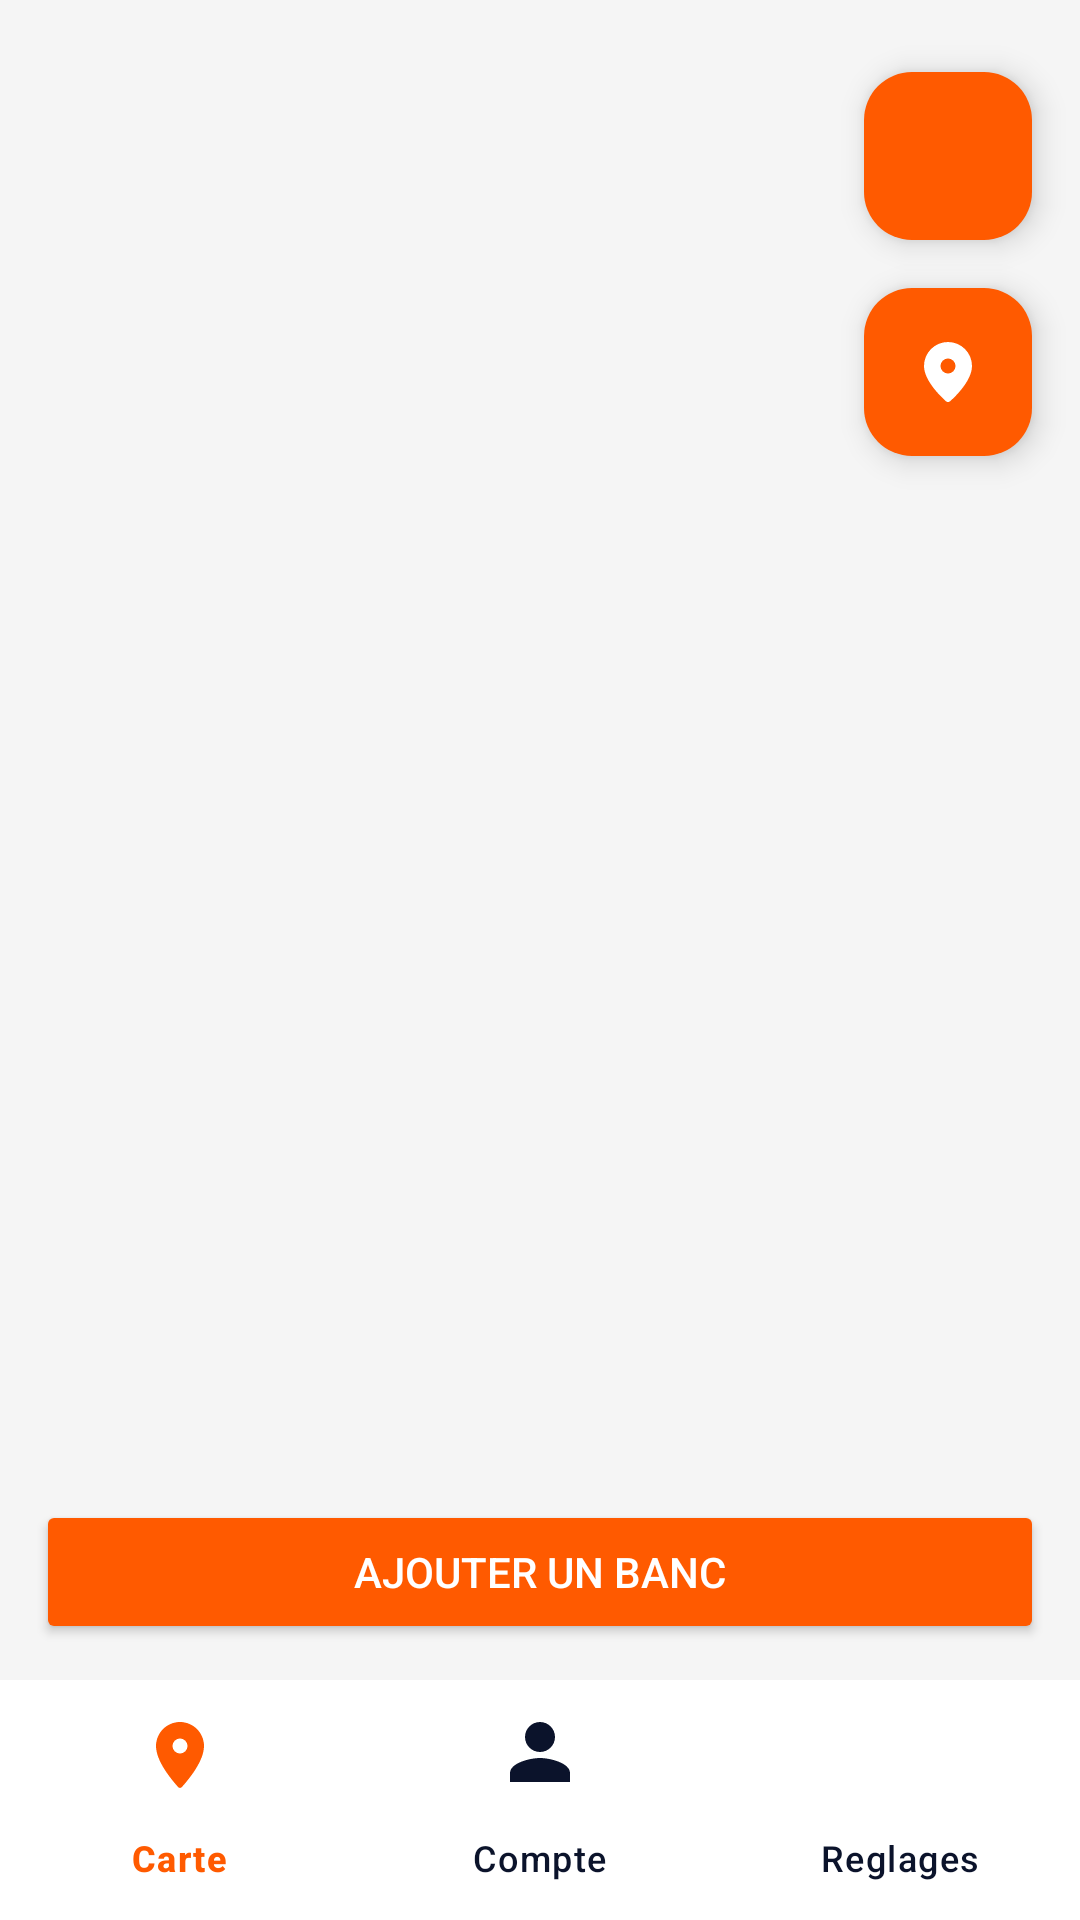

Icon click points for this 1080x1920 phone screenshot, format point (x, y):
Autour de vous: point (948, 372)
